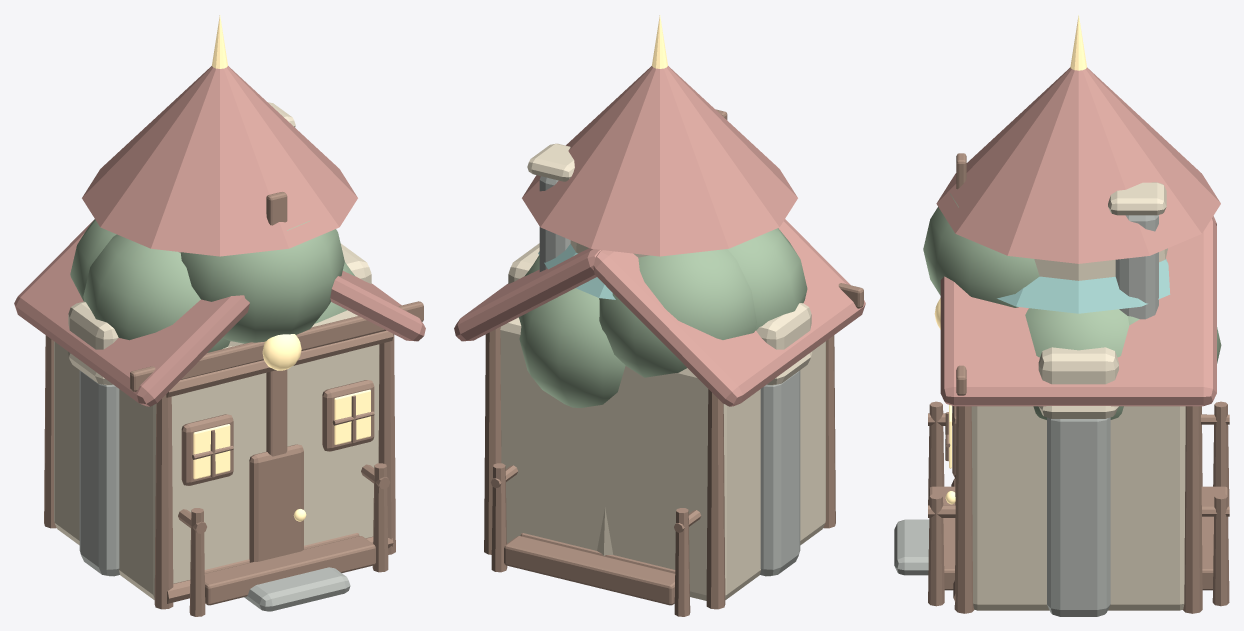
Rendered from storybook-v1.glb.
3 renders of one model, left to right at view 1: azimuth 30°, elevation 25°; view 2: azimuth 150°, elevation 25°; view 3: azimuth 270°, elevation 25°, orthographic. The views are drawn at different scales.
Visible parts, largest first — view 1: cottage_cream, tower_roof, cottage_wood, oak_leaf, cottage_roof, bridge_wood, arch_stone, cottage_gold, cottage_stone, arch_cream, Windmill blade, Windmill blade.002 (+3 smaller); view 2: cottage_cream, tower_roof, oak_leaf, cottage_roof, bridge_wood, cottage_wood, arch_stone, arch_cream, cottage_stone, Mill roof, tower_cream; view 3: tower_roof, cottage_cream, cottage_roof, arch_stone, oak_leaf, bridge_wood, cottage_wood, cottage_stone, Mill roof, arch_cream, tower_cream, tower_gold.
Part boxes in pixels (left/top/right/bottom): cottage_cream: left=54, top=102, right=379, bottom=599; tower_roof: left=82, top=66, right=357, bottom=256; cottage_wood: left=44, top=330, right=395, bottom=609; oak_leaf: left=70, top=219, right=355, bottom=352; cottage_roof: left=14, top=219, right=425, bottom=406; bridge_wood: left=178, top=463, right=390, bottom=616; arch_stone: left=79, top=370, right=119, bottom=576; cottage_gold: left=193, top=389, right=370, bottom=521; cottage_stone: left=244, top=567, right=350, bottom=611; arch_cream: left=68, top=243, right=371, bottom=385; Windmill blade: left=296, top=301, right=423, bottom=350; Windmill blade.002: left=130, top=342, right=264, bottom=391; cottage_cream: left=500, top=143, right=825, bottom=600; tower_roof: left=522, top=66, right=797, bottom=256; oak_leaf: left=518, top=228, right=807, bottom=407; cottage_roof: left=454, top=219, right=865, bottom=406; bridge_wood: left=491, top=463, right=700, bottom=616; cottage_wood: left=484, top=327, right=835, bottom=609; arch_stone: left=760, top=370, right=800, bottom=576; arch_cream: left=508, top=243, right=811, bottom=385; cottage_stone: left=539, top=176, right=570, bottom=271; Mill roof: left=538, top=244, right=615, bottom=299; tower_cream: left=570, top=240, right=648, bottom=555; tower_roof: left=936, top=67, right=1220, bottom=263; cottage_cream: left=971, top=182, right=1185, bottom=610; cottage_roof: left=940, top=216, right=1216, bottom=406; arch_stone: left=1047, top=417, right=1110, bottom=616; oak_leaf: left=923, top=193, right=1221, bottom=419; bridge_wood: left=928, top=401, right=1229, bottom=606; cottage_wood: left=945, top=406, right=1202, bottom=613; cottage_stone: left=894, top=215, right=1158, bottom=575; Mill roof: left=997, top=259, right=1170, bottom=313; arch_cream: left=1038, top=347, right=1118, bottom=418; tower_cream: left=1034, top=248, right=1167, bottom=280; tower_gold: left=1070, top=15, right=1086, bottom=70.
Size of the model in its own units: 2.07 by 3.68 by 2.
